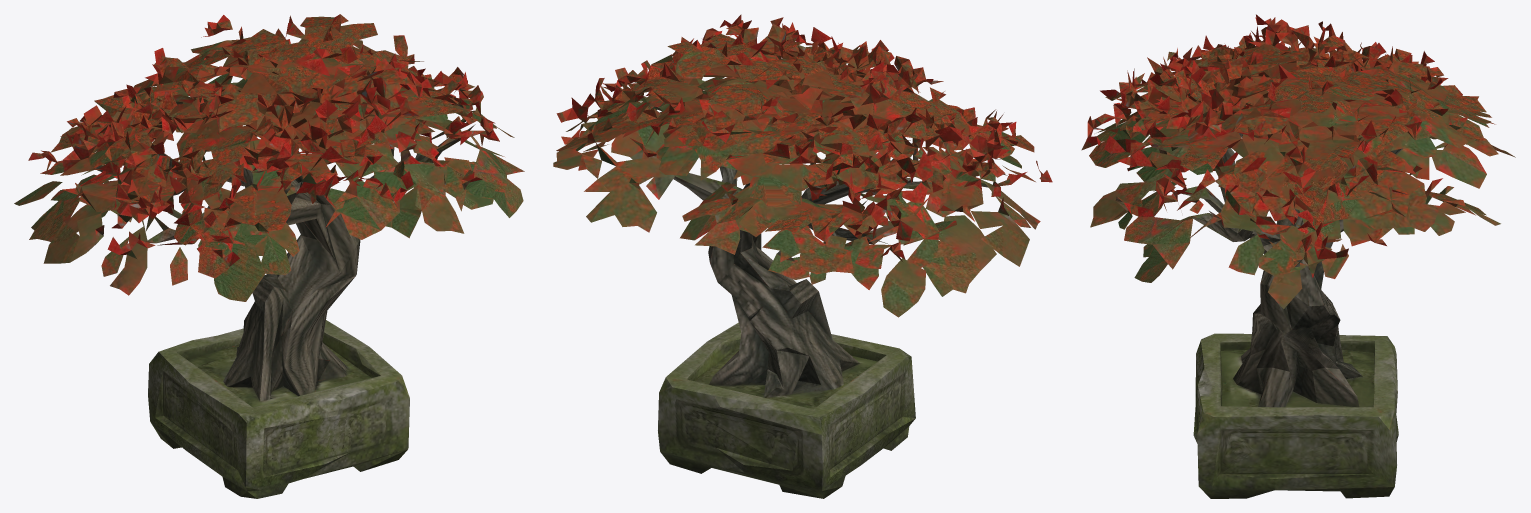
Rendered from flame_tree.glb.
3 views of the same model, side by side, from view 1: azimuth 30°, elevation 25°; view 2: azimuth 150°, elevation 25°; view 3: azimuth 270°, elevation 25° (orthographic). The views are drawn at different scales.
Visible parts, largest first — view 1: flame_tree; view 2: flame_tree; view 3: flame_tree.
Part boxes in pixels (x1,y1,x2,y2): flame_tree: [14, 14, 524, 498]; flame_tree: [553, 14, 1052, 498]; flame_tree: [1081, 14, 1515, 498].
Size of the model in its own units: 9.55 by 8 by 7.53.
1 material, 1 textured.
